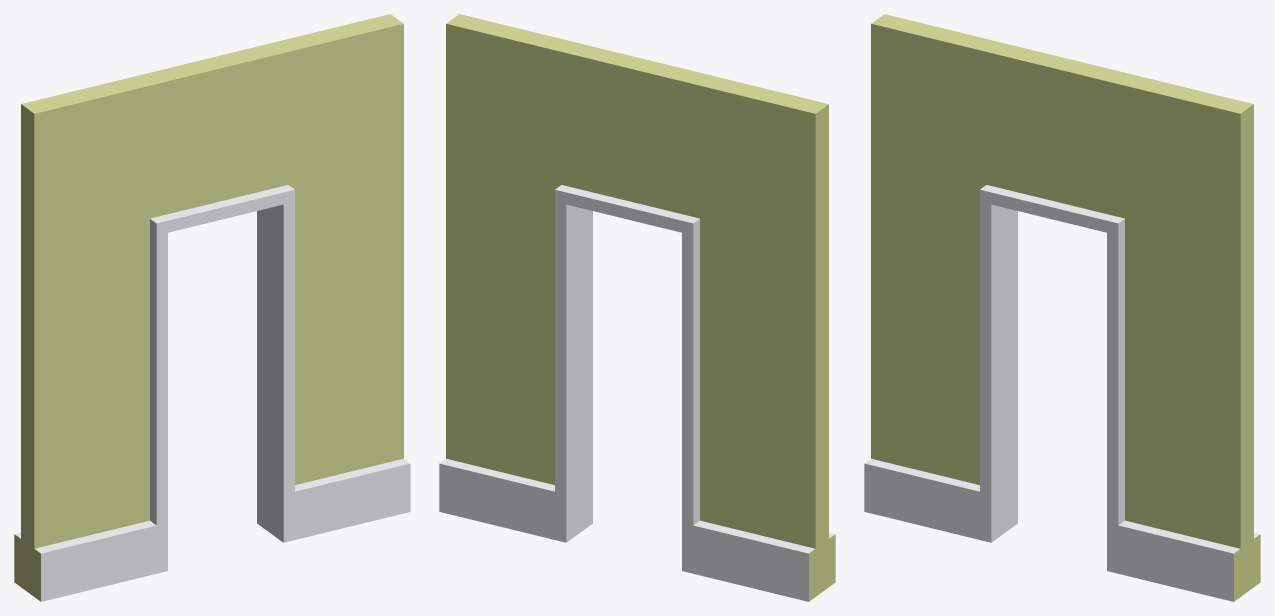
Rendered from WallInsideDoor.glb.
3 renders of one model, left to right at view 1: azimuth 30°, elevation 25°; view 2: azimuth 150°, elevation 25°; view 3: azimuth 330°, elevation 25°, orthographic.
Parts seen in each view (by area): view 1: WallEdge.004; view 2: WallEdge.004; view 3: WallEdge.004.
Part boxes in pixels (left/top/right/bottom): WallEdge.004: left=14, top=14, right=410, bottom=601; WallEdge.004: left=439, top=14, right=835, bottom=601; WallEdge.004: left=864, top=14, right=1260, bottom=601.
Bounding box in the file's own units: 32 × 40 × 4.
